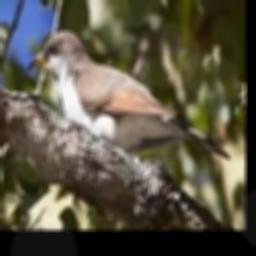Cuckoo: (26, 29, 229, 161)
